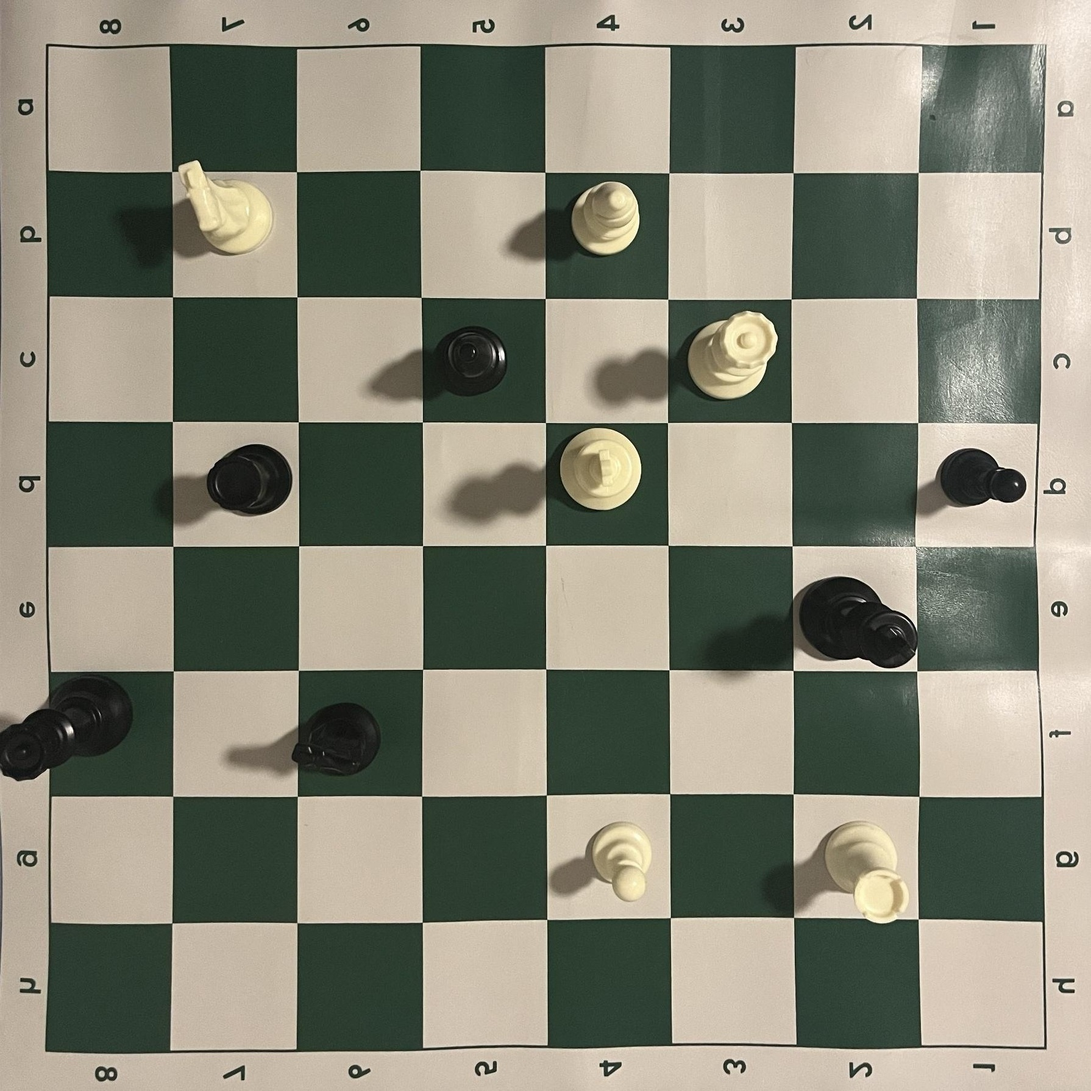black_bishop: (433, 325, 508, 396)
black_king: (798, 575, 919, 670)
black_knight: (291, 702, 382, 778)
black_pawn: (939, 447, 1029, 508)
black_queen: (0, 675, 134, 783)
black_rook: (206, 443, 294, 517)
white_bishop: (570, 180, 642, 257)
white_king: (559, 428, 643, 511)
white_knight: (177, 160, 275, 257)
white_pawn: (589, 821, 653, 903)
white_queen: (686, 310, 779, 402)
white_rook: (823, 820, 911, 926)
